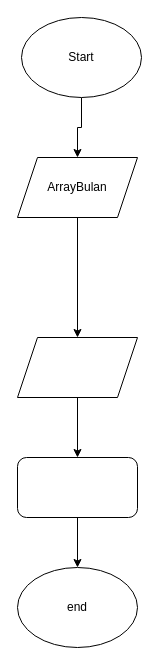
This 159x665 diagram has some shape labels left out. Each missing label, with the centre of its shape:
"input" belongs at pixel 77 367.
"print ArrayBulan[input-1]" belongs at pixel 77 487.
